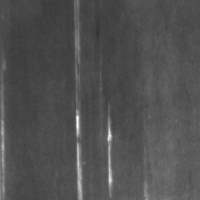scratches: (72, 106, 86, 200), (103, 108, 117, 199)
